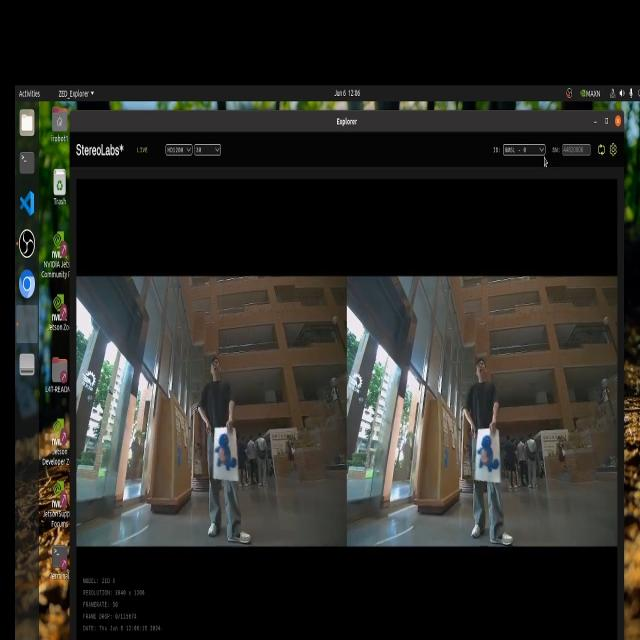blue: (214, 432, 237, 486), (477, 433, 499, 481)
